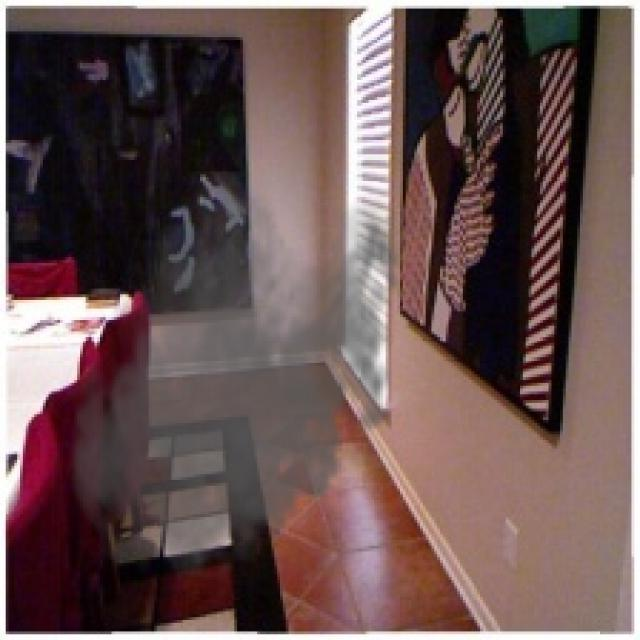Smoke: (62, 172, 412, 597)
